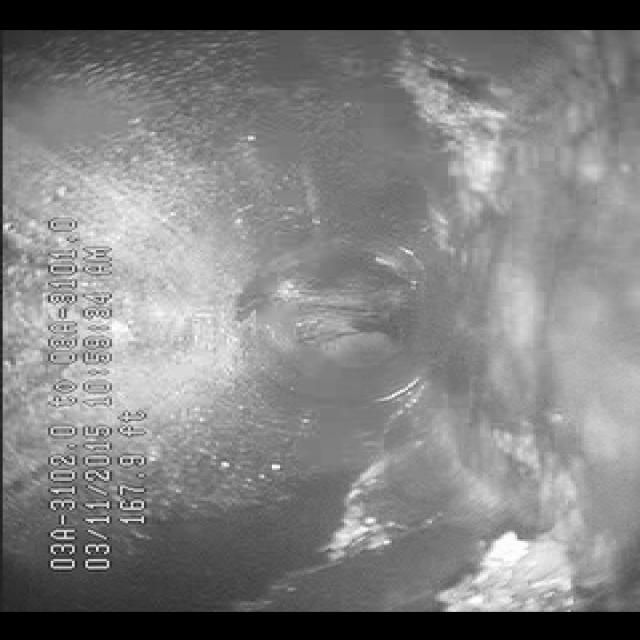Crack: (294, 411, 430, 562)
